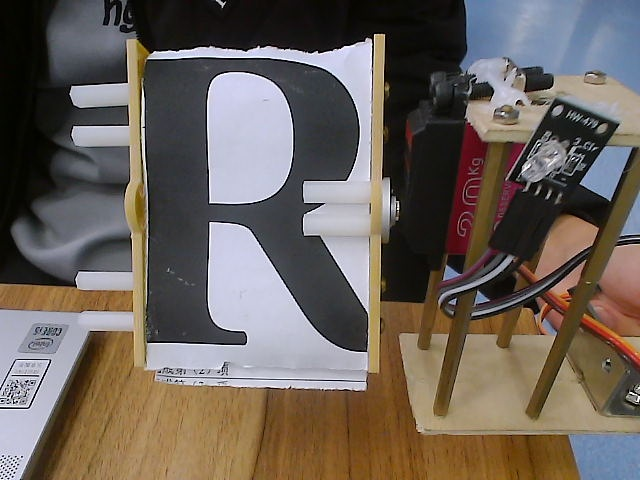R: (60, 23, 421, 416)
